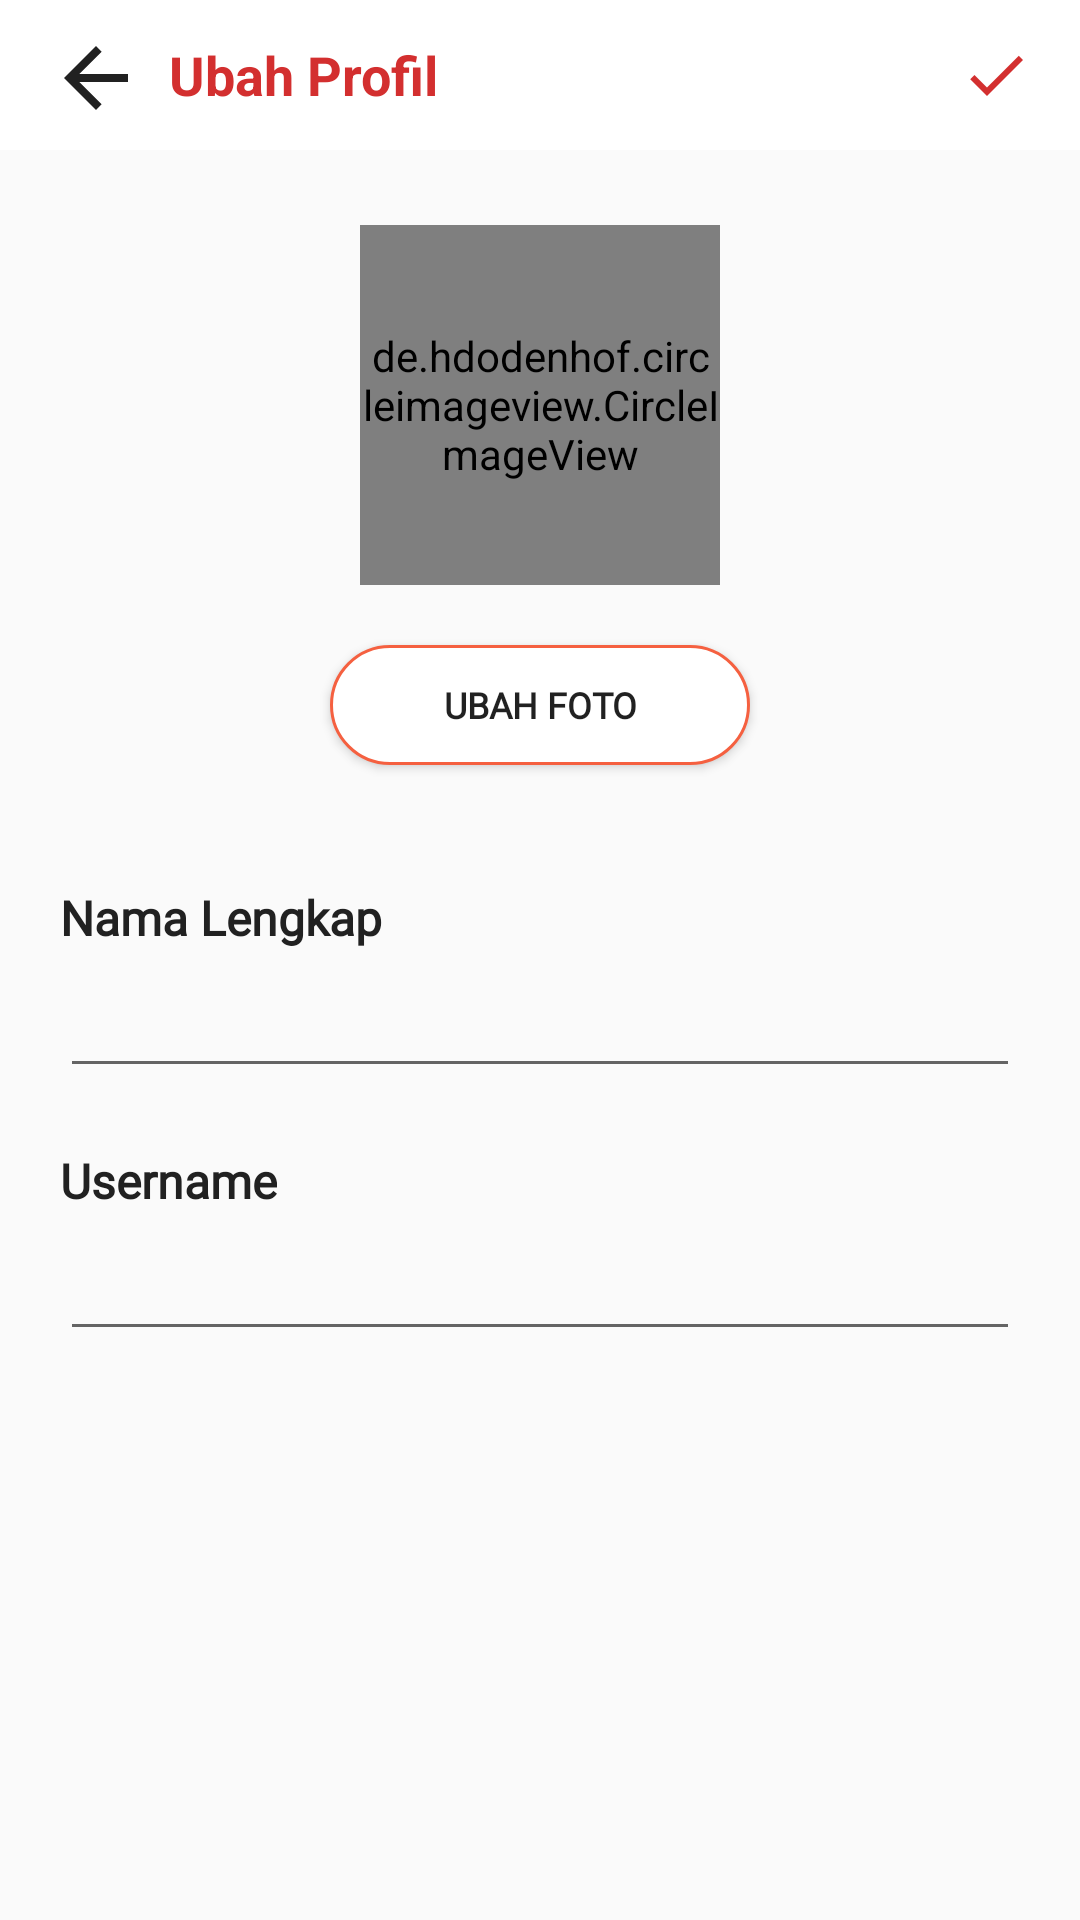

Icons on this 1080x1920 Android screen, each with its box as (x1, y1, x2, y2):
check: (970, 56, 1023, 96)
keyboard backspace: (64, 46, 128, 110)
